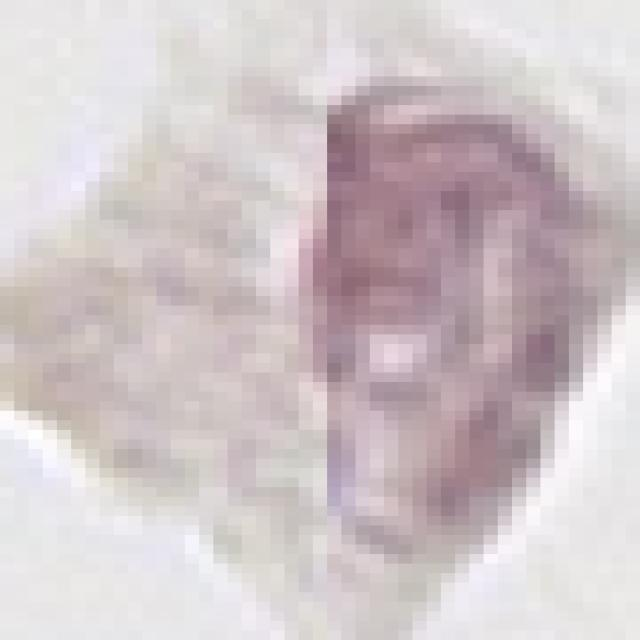nucleus: (241, 57, 624, 572)
